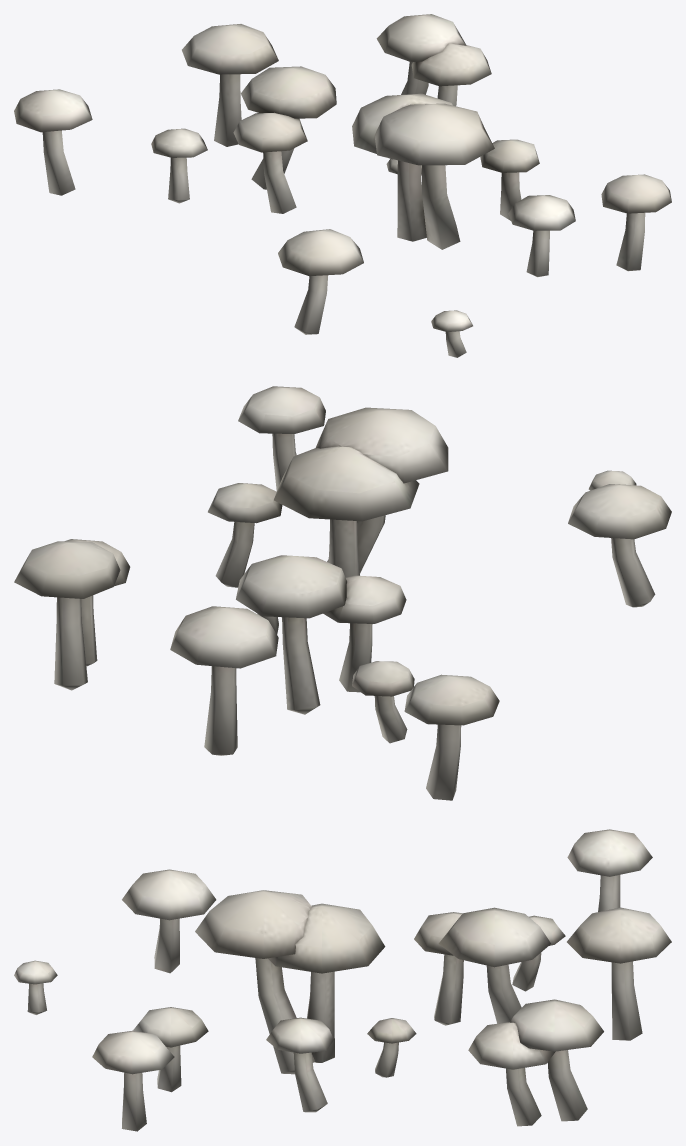
File: tinycaps.glb
3 views of the same model, one above another, from view 1: azimuth 30°, elevation 25°; view 2: azimuth 150°, elevation 25°; view 3: azimuth 270°, elevation 25° (orthographic). The views are drawn at different scales.
Visible parts, largest first — view 1: tint_caps; view 2: tint_caps; view 3: tint_caps.
Part boxes in pixels (left/top/right/bottom): tint_caps: left=14, top=14, right=671, bottom=357; tint_caps: left=14, top=386, right=671, bottom=800; tint_caps: left=14, top=829, right=671, bottom=1131.
Bounding box in the file's own units: 0.1616 × 0.0564 × 0.1992.
1 material, 1 textured.
